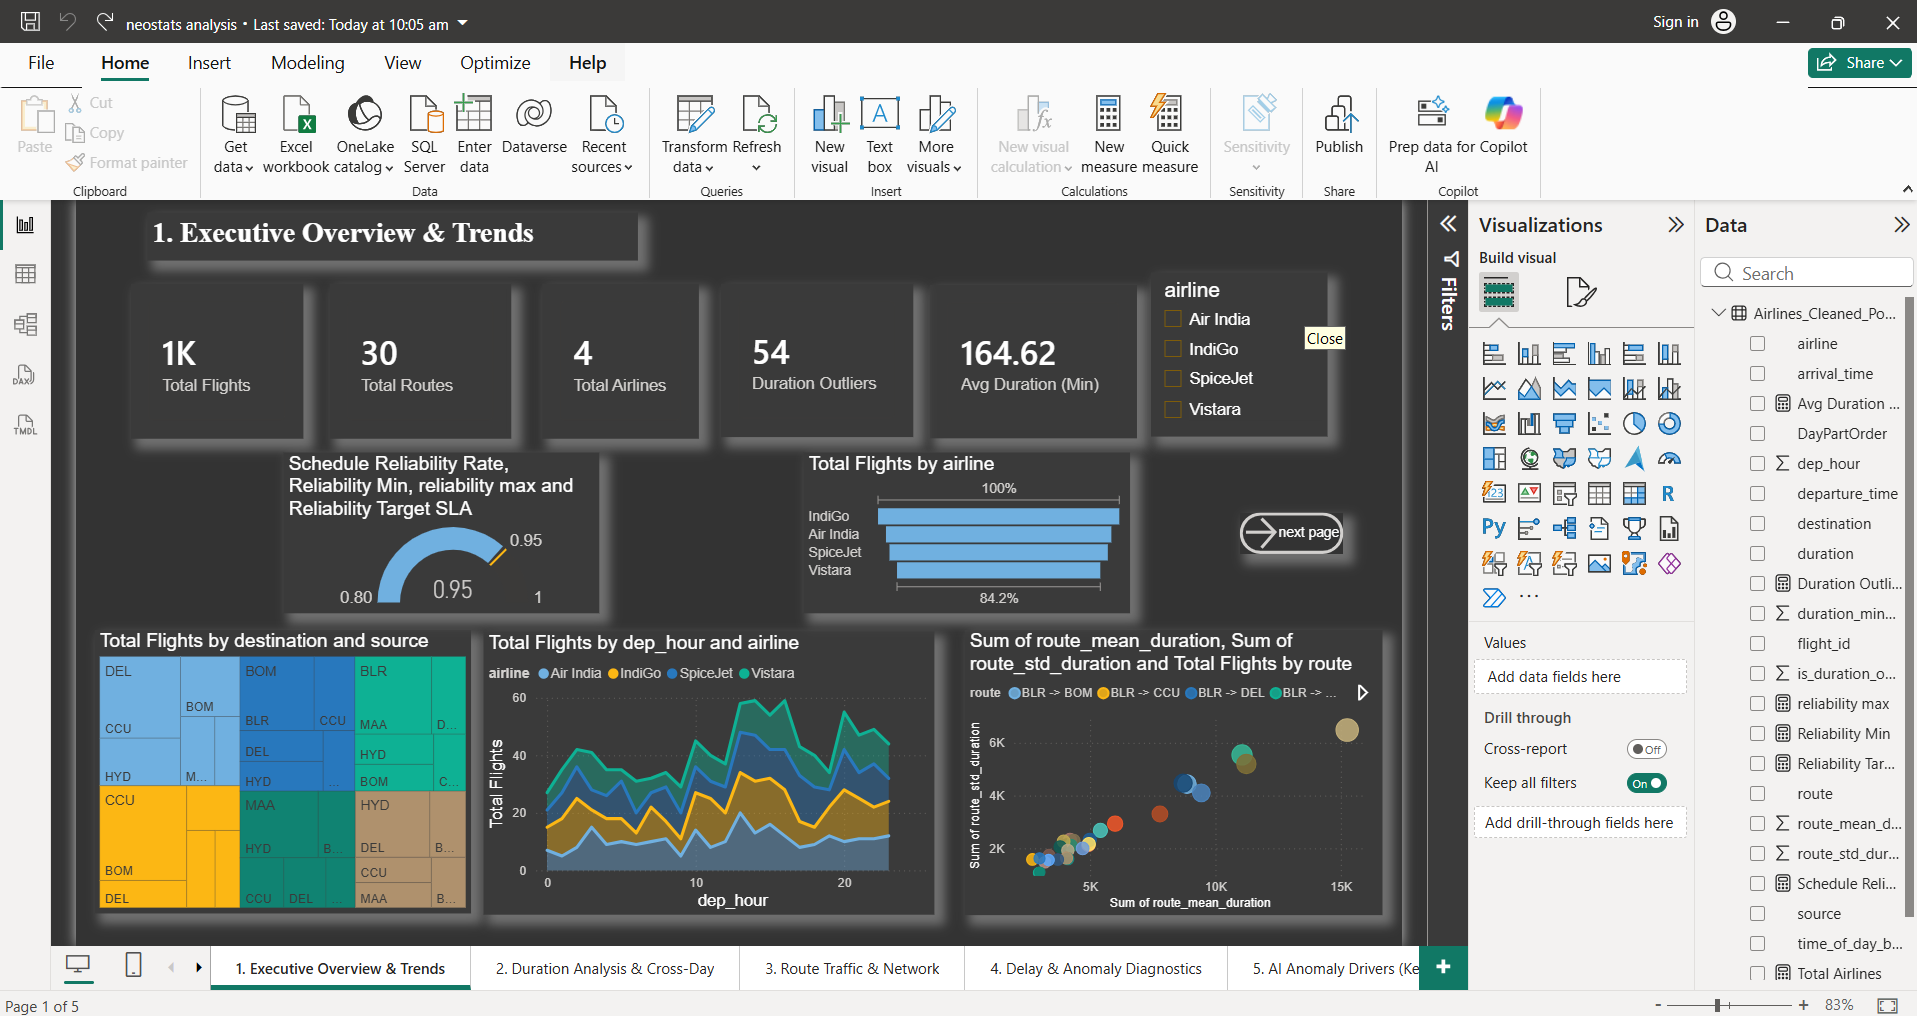

What the dashboard file says about the page in this screenshot:
{"tool":"powerbi","page":{"name":"1. Executive Overview & Trends","canvas":[1280,720],"ordinal":0},"visuals":[{"type":"group","id":"g1","title":"Group 1","box":[53.3,70,1155,160],"z":0},{"type":"cardVisual","fields":{"Data":["Airlines_Cleaned_PowerBI.Total Routes"]},"box":[245.2,80.4,175.1,149.6],"z":0,"group":"g1"},{"type":"treemap","fields":{"Group":["Airlines_Cleaned_PowerBI.destination"],"Details":["Airlines_Cleaned_PowerBI.source"],"Values":["Airlines_Cleaned_PowerBI.Total Flights"]},"box":[18.3,415,363.3,273.3],"z":0,"group":"g2"},{"type":"textbox","box":[68.3,11.7,473.3,46.7],"z":1000},{"type":"cardVisual","fields":{"Data":["Airlines_Cleaned_PowerBI.Total Flights"]},"box":[53.3,80.4,166.7,149.6],"z":1000,"group":"g1"},{"type":"stackedAreaChart","fields":{"Category":["Airlines_Cleaned_PowerBI.dep_hour"],"Y":["Airlines_Cleaned_PowerBI.Total Flights"],"Series":["Airlines_Cleaned_PowerBI.airline"]},"box":[393.3,416.7,435,273.3],"z":1000,"group":"g2"},{"type":"cardVisual","fields":{"Data":["Airlines_Cleaned_PowerBI.Total Airlines"]},"box":[450.6,80.4,151.5,149.6],"z":2000,"group":"g1"},{"type":"group","id":"g2","title":"Group 2","box":[18.3,415,1243.3,275],"z":2000},{"type":"scatterChart","fields":{"X":["Sum(Airlines_Cleaned_PowerBI.route_mean_duration)"],"Y":["Sum(Airlines_Cleaned_PowerBI.route_std_duration)"],"Size":["Airlines_Cleaned_PowerBI.Total Flights"],"Series":["Airlines_Cleaned_PowerBI.route"]},"box":[858.3,415,403.3,275],"z":2000,"group":"g2"},{"type":"cardVisual","fields":{"Data":["Airlines_Cleaned_PowerBI.Avg Duration (Min)"]},"box":[824.4,82.2,200.4,147.8],"z":3000,"group":"g1"},{"type":"gauge","fields":{"MinValue":["Airlines_Cleaned_PowerBI.Reliability Min"],"TargetValue":["Airlines_Cleaned_PowerBI.Reliability Target SLA"],"Y":["Airlines_Cleaned_PowerBI.Schedule Reliability Rate"],"MaxValue":["Airlines_Cleaned_PowerBI.reliability mac"]},"box":[200,243.3,305,155],"z":3000},{"type":"cardVisual","fields":{"Data":["Airlines_Cleaned_PowerBI.Duration Outliers"]},"box":[622.4,80.4,185.2,147.8],"z":4000,"group":"g1"},{"type":"funnel","fields":{"Category":["Airlines_Cleaned_PowerBI.airline"],"Y":["Airlines_Cleaned_PowerBI.Total Flights"]},"box":[701.7,243.3,315,155],"z":4000},{"type":"slicer","fields":{"Values":["Airlines_Cleaned_PowerBI.airline"]},"box":[1038.2,70,170.1,158.3],"z":5000,"group":"g1"},{"type":"actionButton","box":[1123.3,301.7,100,40],"z":5000}]}

Visuals, with their boxes on the page's 1280x720 design canvas (x1, y1, x2, y2). These are canvas units, not pixel positions in the 1917x1016 screenshot, which may show the page scaled, cropped or inside an application window:
"Group 1" group: 53:70:1208:230
cardVisual - Airlines_Cleaned_PowerBI.Total Routes: 245:80:420:230
treemap - Airlines_Cleaned_PowerBI.destination x Airlines_Cleaned_PowerBI.source: 18:415:382:688
textbox: 68:12:542:58
cardVisual - Airlines_Cleaned_PowerBI.Total Flights: 53:80:220:230
stackedAreaChart - Airlines_Cleaned_PowerBI.dep_hour x Airlines_Cleaned_PowerBI.Total Flights: 393:417:828:690
cardVisual - Airlines_Cleaned_PowerBI.Total Airlines: 451:80:602:230
"Group 2" group: 18:415:1262:690
scatterChart - Sum(Airlines_Cleaned_PowerBI.route_mean_duration) x Sum(Airlines_Cleaned_PowerBI.route_std_duration): 858:415:1262:690
cardVisual - Airlines_Cleaned_PowerBI.Avg Duration (Min): 824:82:1025:230
gauge - Airlines_Cleaned_PowerBI.Reliability Min x Airlines_Cleaned_PowerBI.Reliability Target SLA: 200:243:505:398
cardVisual - Airlines_Cleaned_PowerBI.Duration Outliers: 622:80:808:228
funnel - Airlines_Cleaned_PowerBI.airline x Airlines_Cleaned_PowerBI.Total Flights: 702:243:1017:398
slicer - Airlines_Cleaned_PowerBI.airline: 1038:70:1208:228
actionButton: 1123:302:1223:342
